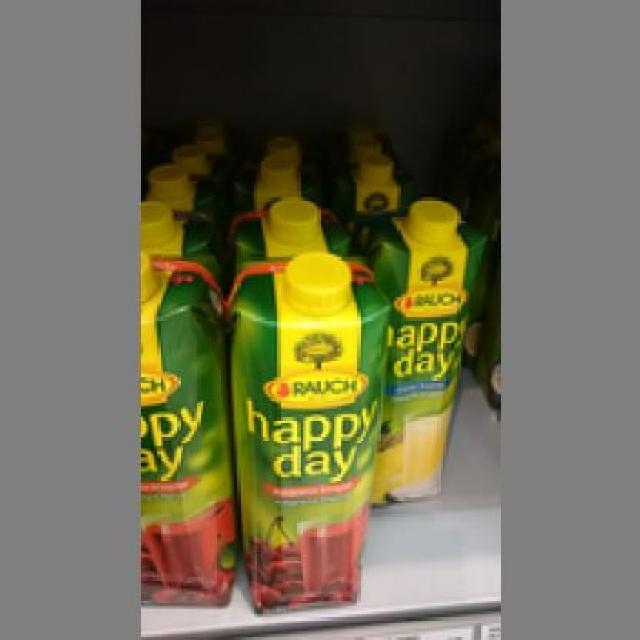Juice: (223, 257, 386, 612), (358, 197, 482, 500), (138, 248, 232, 602)
